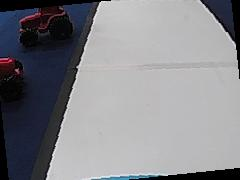Tracktor: (16, 3, 75, 45), (0, 55, 26, 103)
